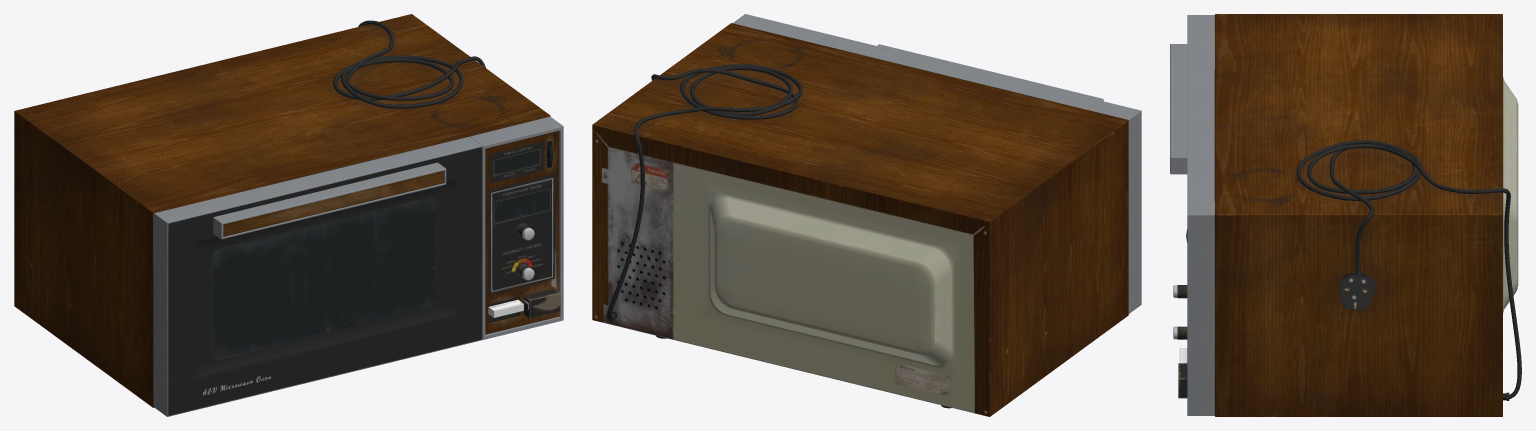
File: microwave.glb
The picture shows the model from 3 angles, left to right: view 1: azimuth 30°, elevation 25°; view 2: azimuth 150°, elevation 25°; view 3: azimuth 270°, elevation 25°; orthographic projection. The views are drawn at different scales.
Visible parts, largest first — view 1: vintage_microwave; view 2: vintage_microwave; view 3: vintage_microwave.
Part boxes in pixels (x1,y1,x2,y2): vintage_microwave: (14,14,563,416); vintage_microwave: (592,14,1141,416); vintage_microwave: (1170,14,1521,416).
Bounding box in the file's own units: 1.07 × 0.5258 × 0.7456.
2 materials, 2 textured.
